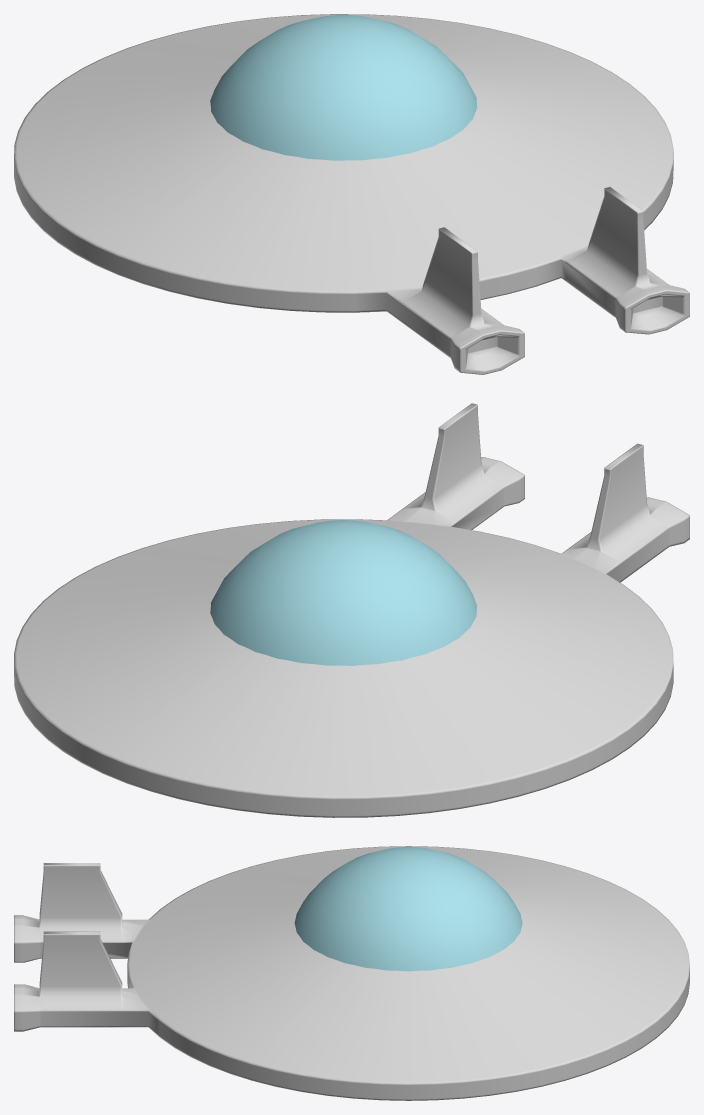
Rendered from flying_saucer.glb.
3 renders of one model, top to bottom at view 1: azimuth 30°, elevation 25°; view 2: azimuth 150°, elevation 25°; view 3: azimuth 270°, elevation 25°, orthographic. The views are drawn at different scales.
Parts seen in each view (by area): view 1: Disc, top_dome; view 2: Disc, top_dome; view 3: Disc, top_dome.
Part boxes in pixels (box(x1,y1,x2,y2)): Disc: box(14, 14, 689, 374); top_dome: box(210, 15, 477, 160); Disc: box(14, 403, 689, 817); top_dome: box(210, 520, 477, 665); Disc: box(14, 846, 689, 1100); top_dome: box(294, 847, 522, 971).
Size of the model in its own units: 10 by 3.93 by 12.01.
